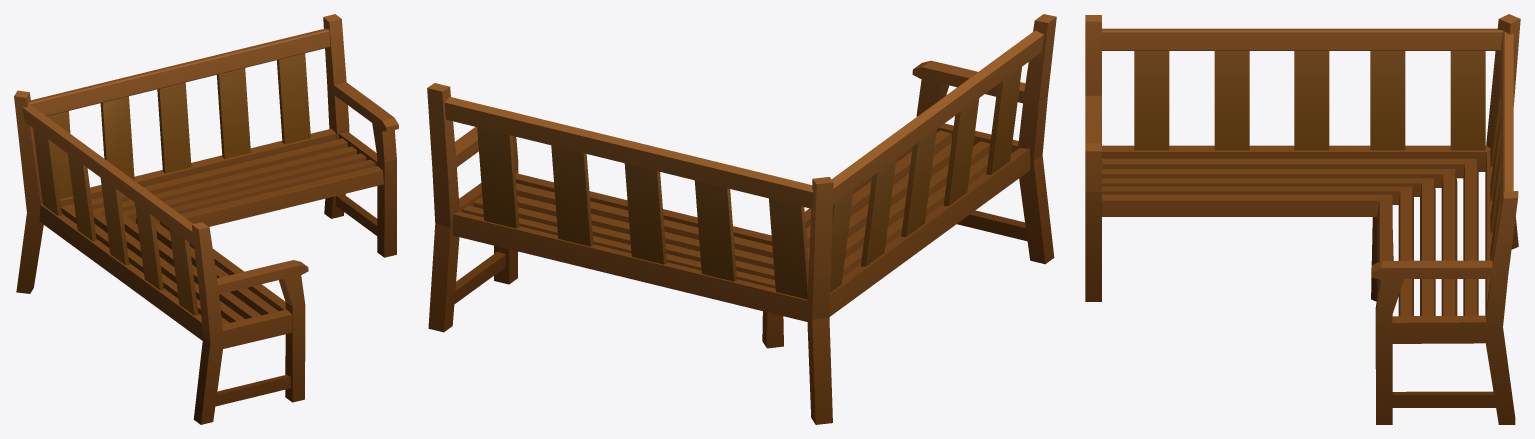
Rendered from Park_Bench003.fbx.
3 renders of one model, left to right at view 1: azimuth 30°, elevation 25°; view 2: azimuth 150°, elevation 25°; view 3: azimuth 270°, elevation 25°, orthographic. The views are drawn at different scales.
Parts seen in each view (by area): view 1: Park_Bench003; view 2: Park_Bench003; view 3: Park_Bench003.
Part boxes in pixels (left/top/right/bottom): Park_Bench003: left=14, top=14, right=398, bottom=424; Park_Bench003: left=427, top=14, right=1056, bottom=424; Park_Bench003: left=1085, top=14, right=1520, bottom=424.
Bounding box in the file's own units: 187 × 187 × 107.
Materials: 1 (1 with a texture image).
